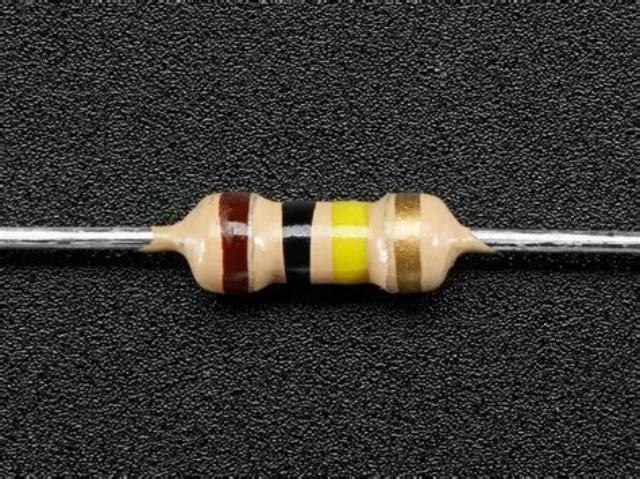black: (279, 202, 316, 296)
brown: (219, 192, 252, 299)
gold: (392, 188, 429, 299)
resistor: (163, 133, 538, 355)
yellow: (330, 198, 371, 284)
